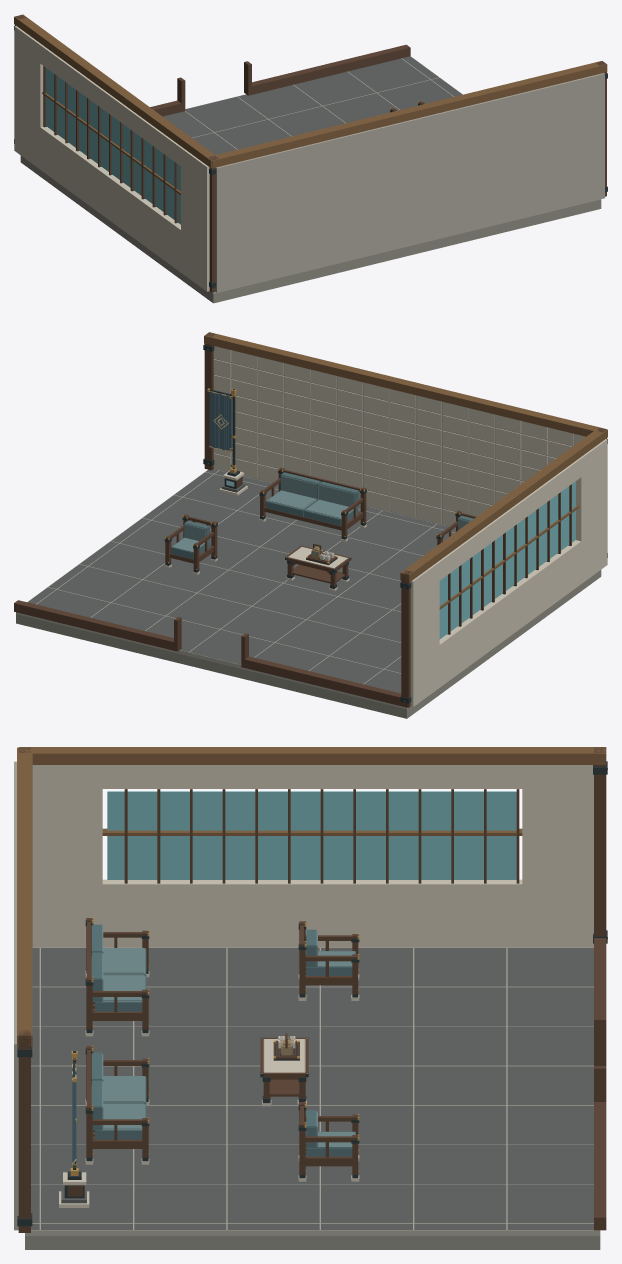
The picture shows the model from 3 angles, top to bottom: view 1: azimuth 30°, elevation 25°; view 2: azimuth 150°, elevation 25°; view 3: azimuth 270°, elevation 25°; orthographic projection. The views are drawn at different scales.
Parts seen in each view (by area): view 1: 真实窗洞、木梁与切角房间墙, 分层实心台基与独立石铺面; view 2: 真实窗洞、木梁与切角房间墙, 分层实心台基与独立石铺面, 沙发软垫靠背, 外交仪仗旗座 · 独立光学用途, 沙发框架, 扶手椅框架, 茶几桌架, 扶手椅软垫, 茶几台面; view 3: 分层实心台基与独立石铺面, 真实窗洞、木梁与切角房间墙, 沙发软垫靠背 (×2), 沙发框架 (×2), 扶手椅框架 (×2), 扶手椅软垫 (×2), 外交仪仗旗座 · 独立光学用途, 茶几台面, 茶几桌架.
Boxes of the visible parts, x1,y1,x2,y2 form: 真实窗洞、木梁与切角房间墙: (14, 14, 607, 292); 分层实心台基与独立石铺面: (20, 56, 601, 303); 真实窗洞、木梁与切角房间墙: (14, 332, 607, 707); 分层实心台基与独立石铺面: (16, 469, 601, 718); 沙发软垫靠背: (266, 472, 359, 526); 外交仪仗旗座 · 独立光学用途: (207, 388, 247, 495); 沙发框架: (259, 467, 366, 541); 扶手椅框架: (164, 514, 217, 574); 茶几桌架: (286, 560, 349, 591); 扶手椅软垫: (171, 521, 209, 559); 茶几台面: (285, 545, 351, 571); 分层实心台基与独立石铺面: (25, 947, 600, 1249); 真实窗洞、木梁与切角房间墙: (14, 747, 607, 1232); 沙发软垫靠背 (×2): (91, 924, 146, 1139); 沙发框架 (×2): (85, 917, 149, 1164); 扶手椅框架 (×2): (298, 921, 359, 1181); 扶手椅软垫 (×2): (306, 929, 355, 1156); 外交仪仗旗座 · 独立光学用途: (59, 1051, 89, 1207); 茶几台面: (260, 1037, 308, 1077); 茶几桌架: (262, 1077, 306, 1106).
Size of the model in its own units: 8.83 by 3.08 by 7.64.
Materials: 19 (19 with a texture image).
